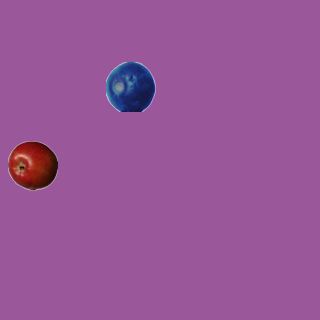Apple Braeburn: (7, 140, 57, 190)
Huckleberry: (105, 61, 155, 111)
